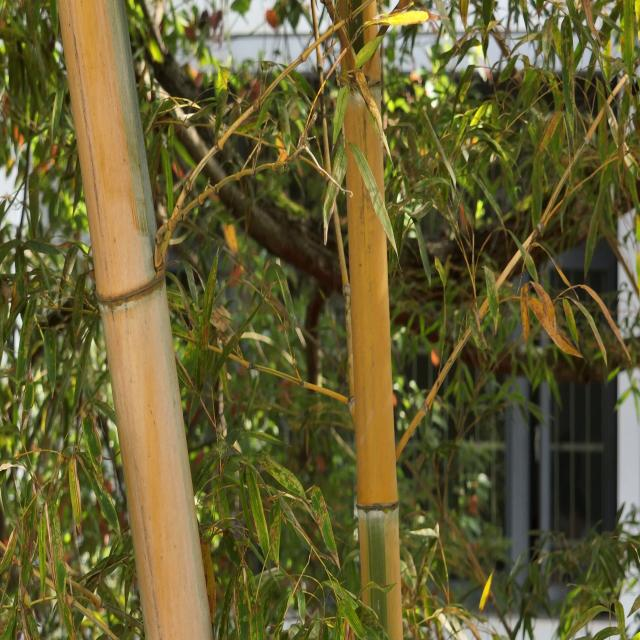Bamboo-shoots: (59, 0, 213, 640)
